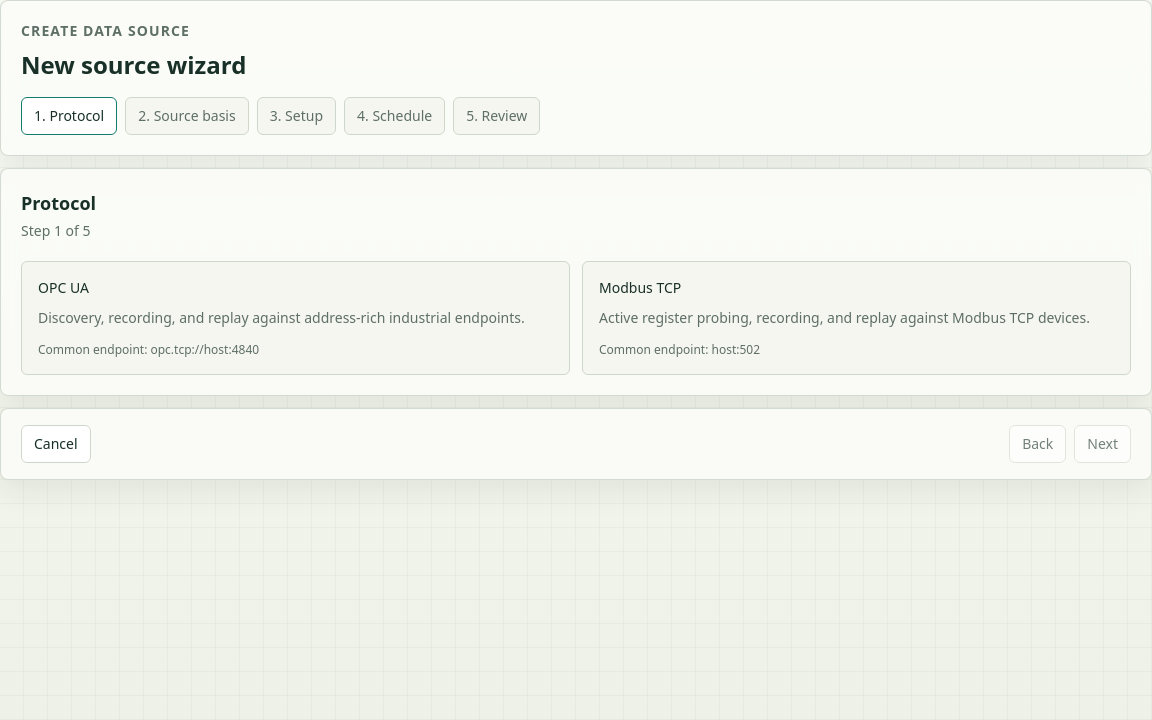
Test: CreateDataSourceWizardPage — setup step › shows Source name field on the setup step
The image size is (1152, 720).
Click the text "OPC UA".
click(63, 288)  # box [38,278,89,297]
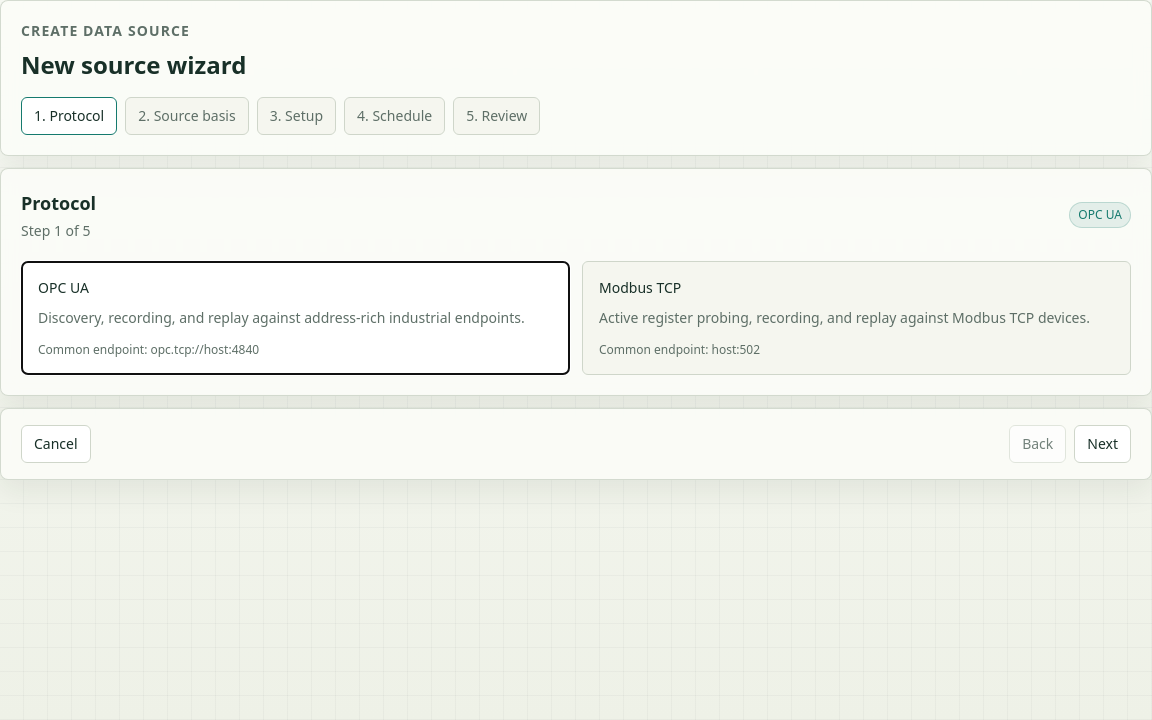
Click the button "Next".
click(1103, 444)  # box [1074,425,1131,463]
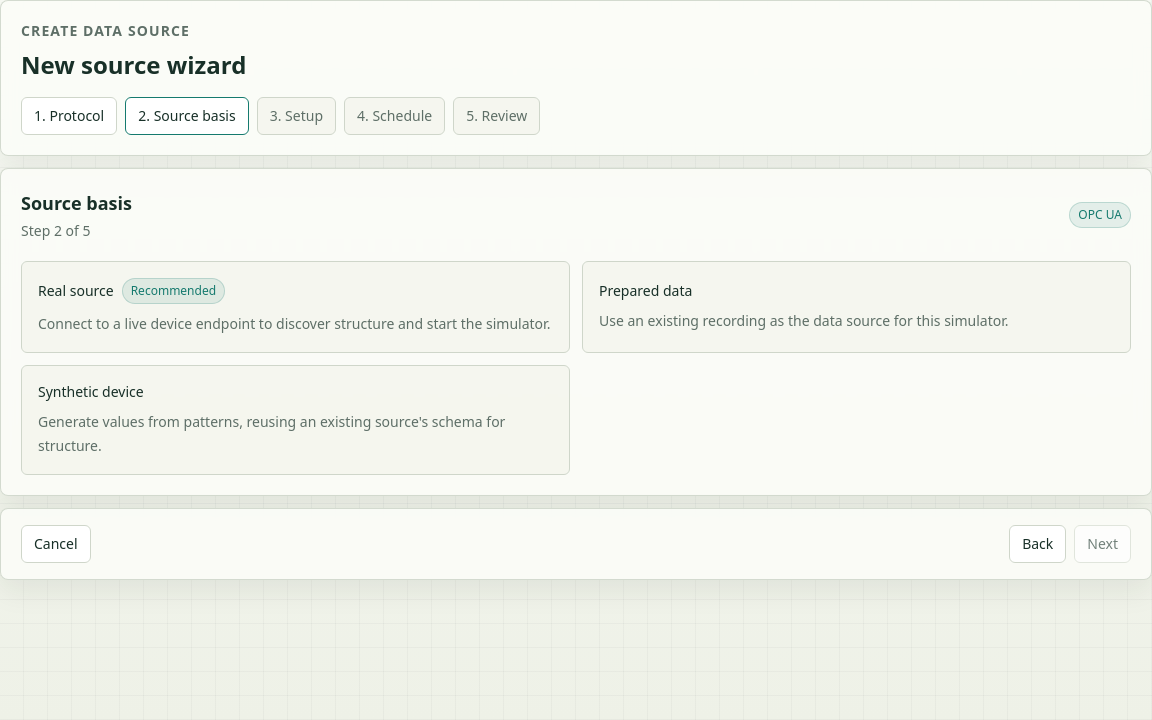
Click the text "Real source".
click(76, 291)  # box [38,281,114,301]
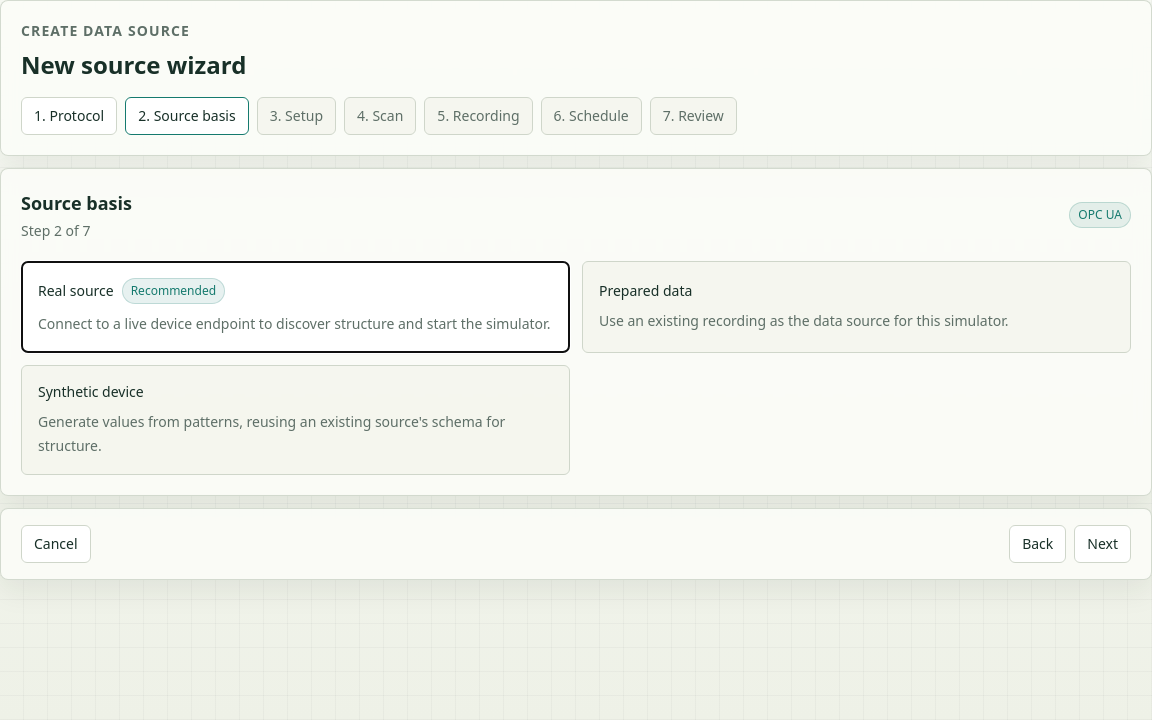
Click the button "Next".
click(1103, 544)  # box [1074,525,1131,563]
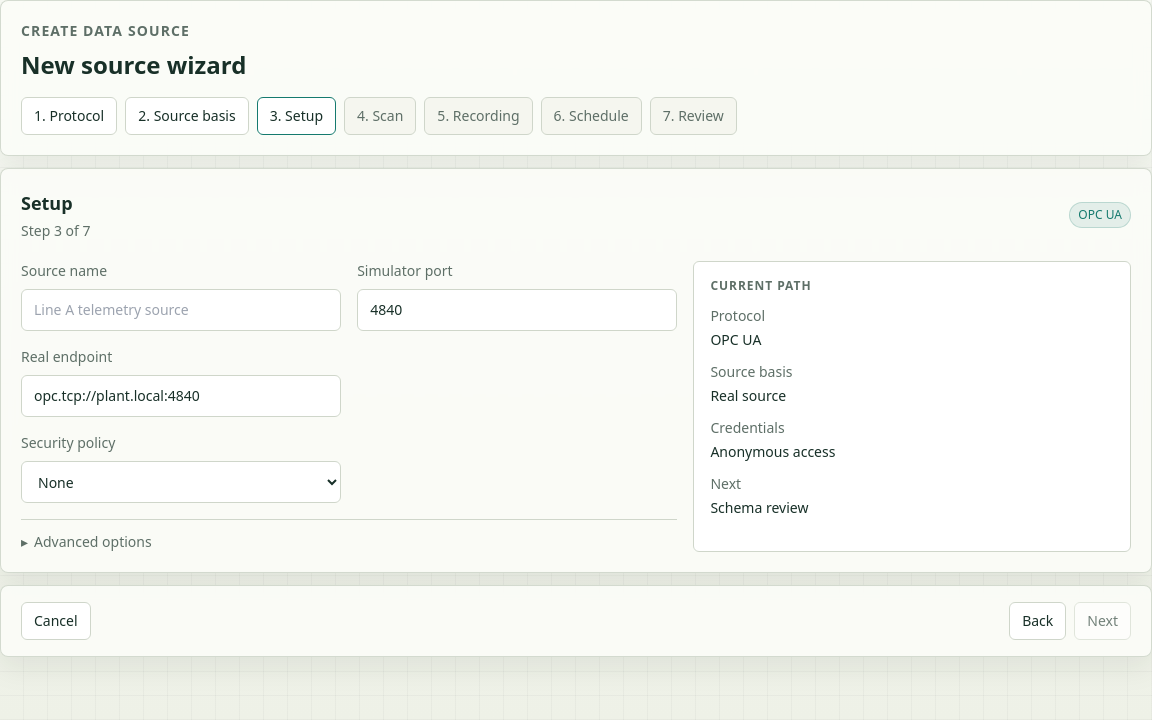
Check: the field labelled "Source name" is shown, box [21,289,341,331]
